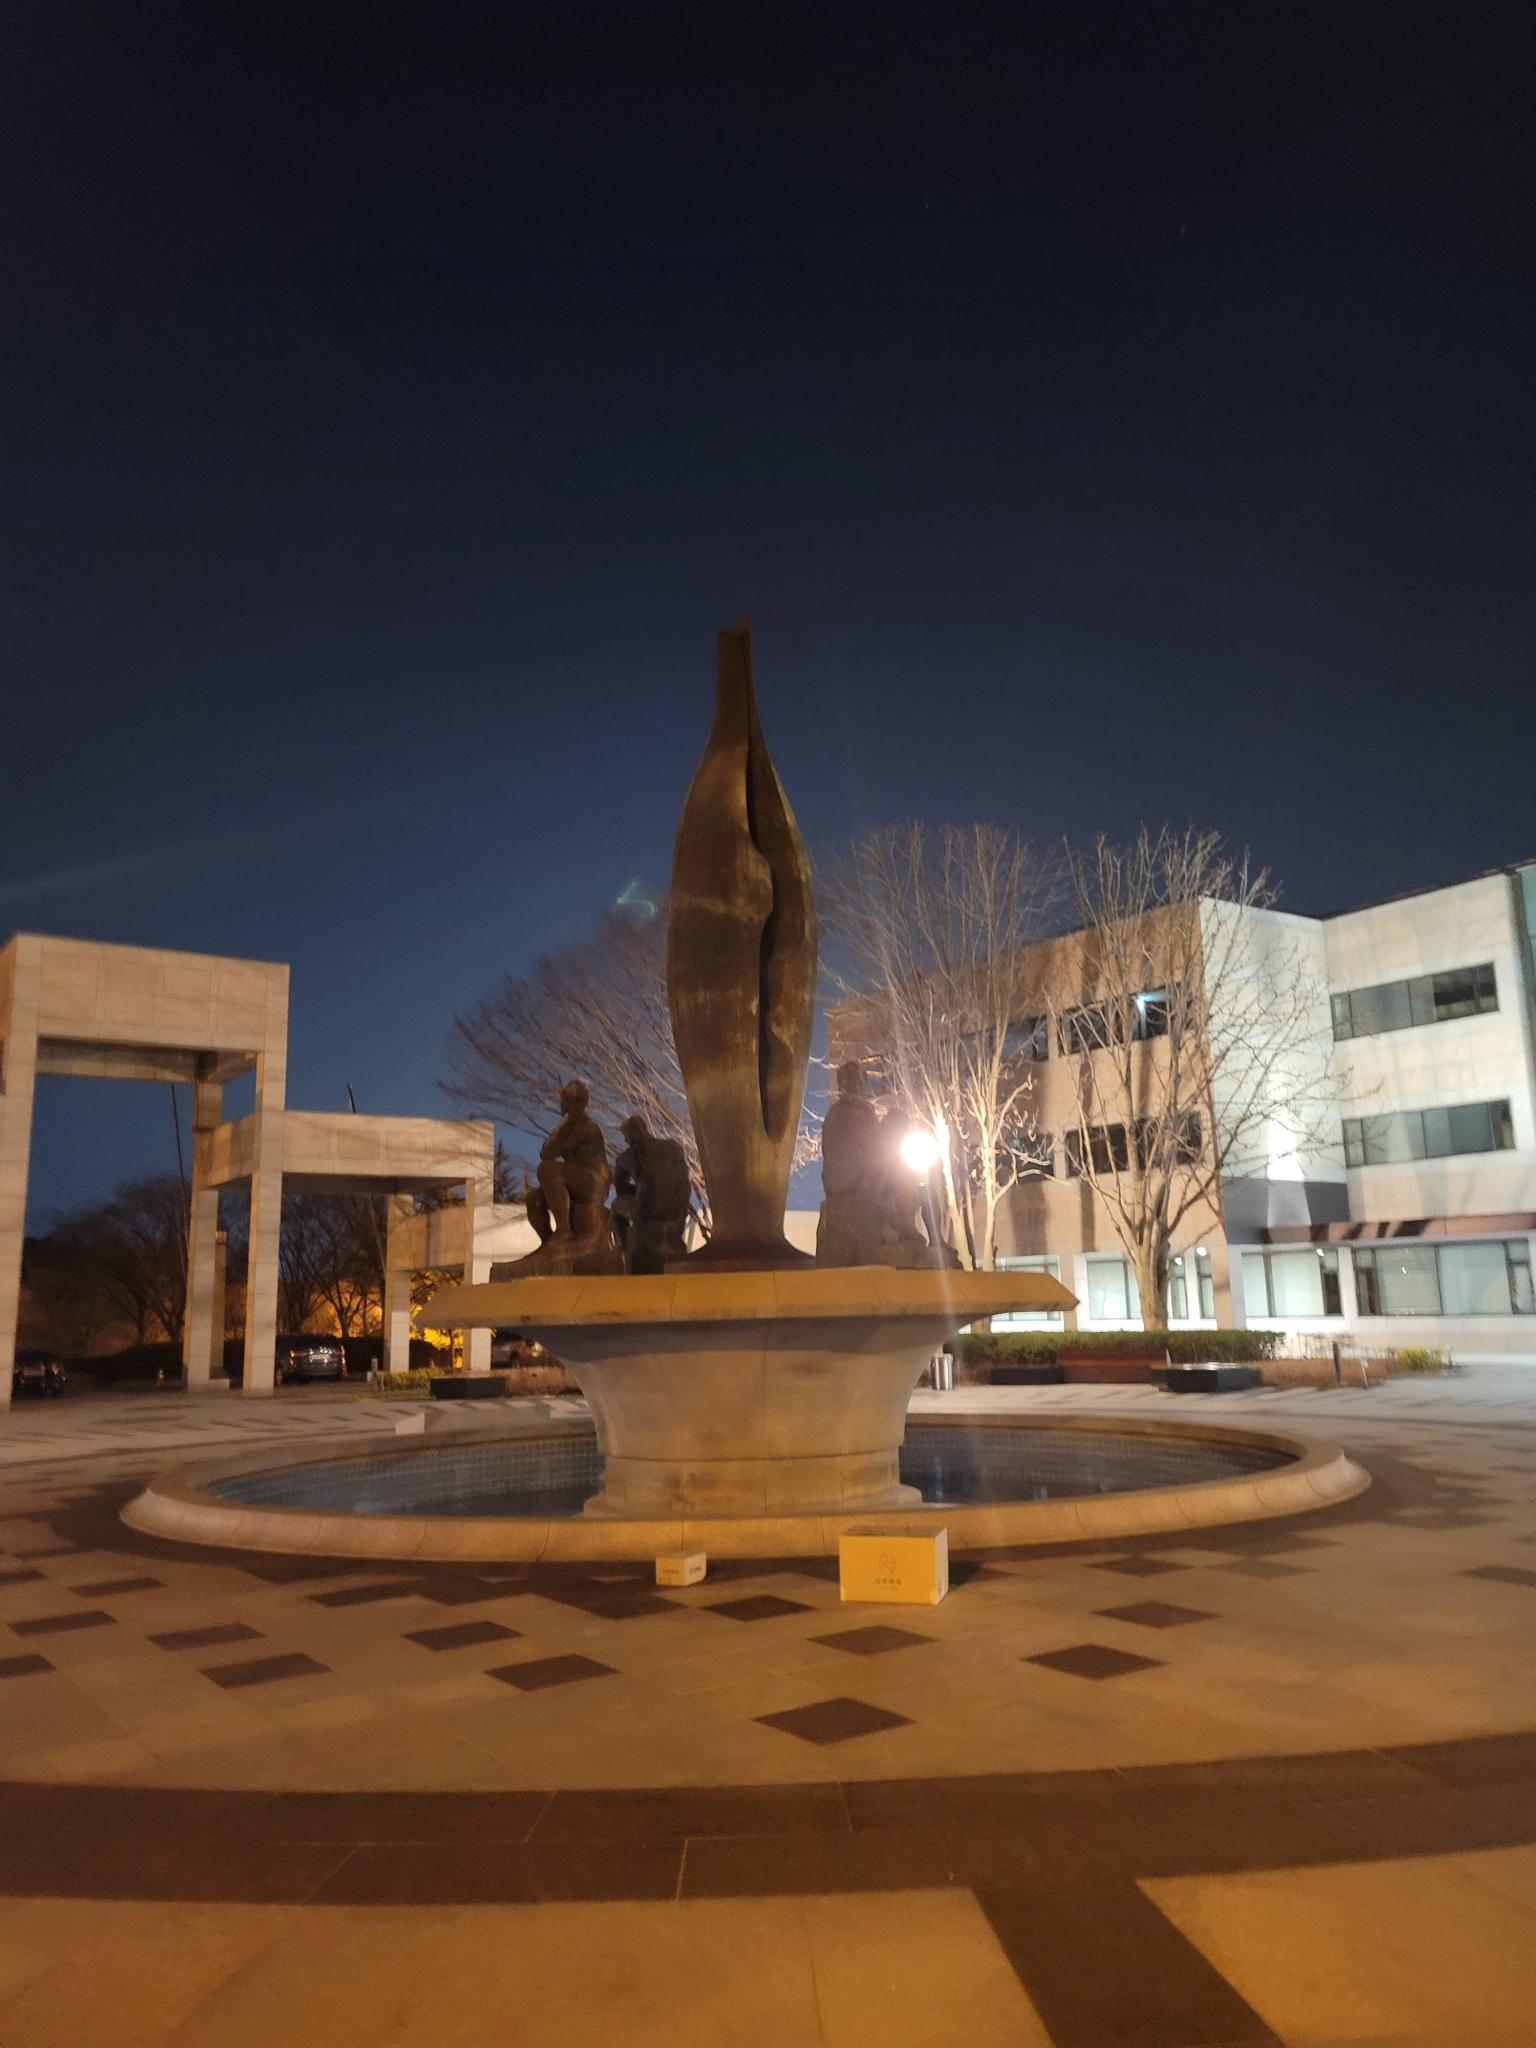Box: (831, 1516, 975, 1617), (655, 1538, 710, 1587)
